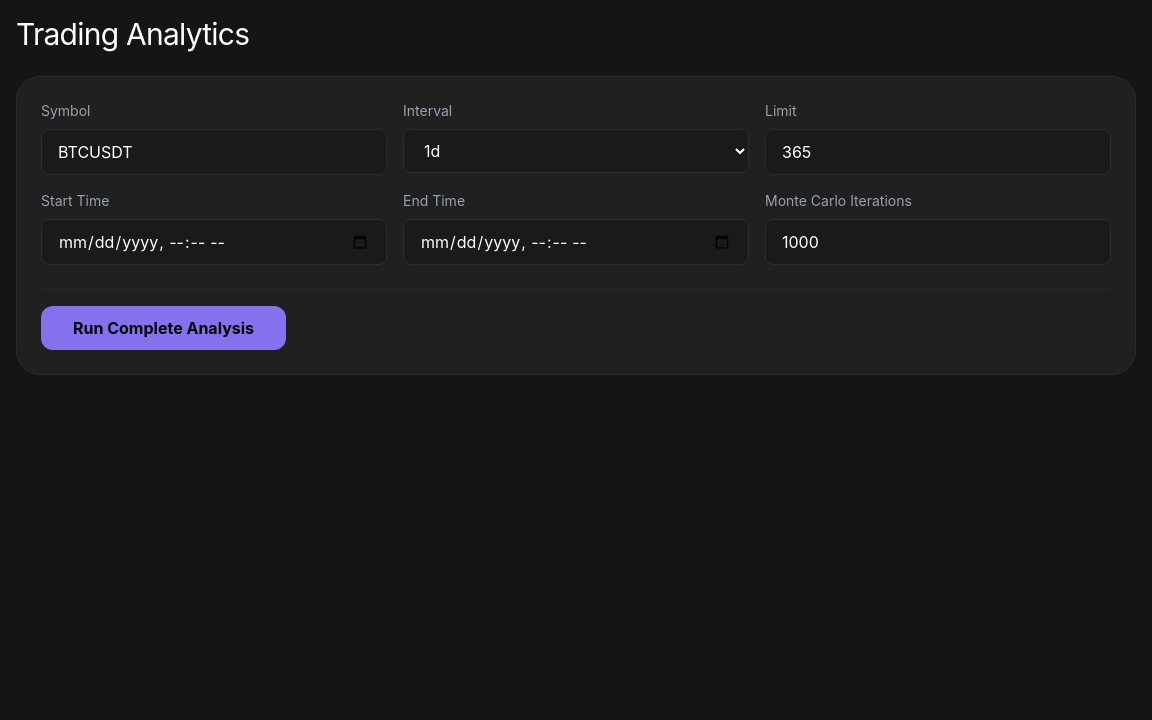
Test case: Analytics component › handles analysis failure
What coordinates should you click on to do the following:
click the button "Run Complete Analysis"
I would click on:
 (164, 328)
Its box is [41,306,286,350].
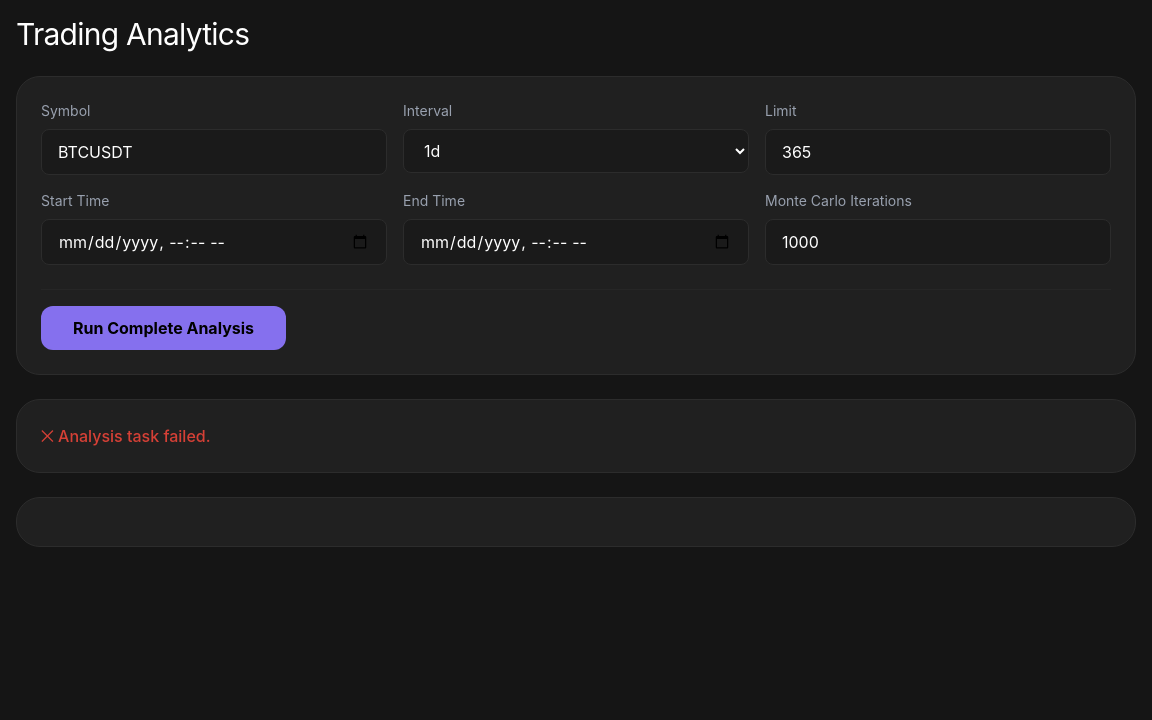
expect the text "⨉ Analysis task failed." is shown: met, box [41,426,210,446]
